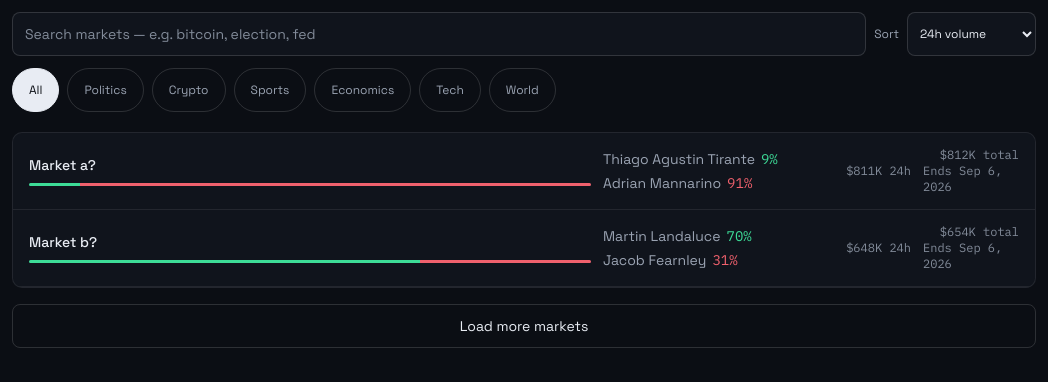
Load more (UX-1) › does not re-render a market that arrives on two pages
The width and height of the screenshot is (1048, 382).
Check: the heading "Market a?" is shown, box [29,156,96,174]
Step 1. Click the button "Load more markets" → {"x": 524, "y": 326}, box [12,304,1036,348]
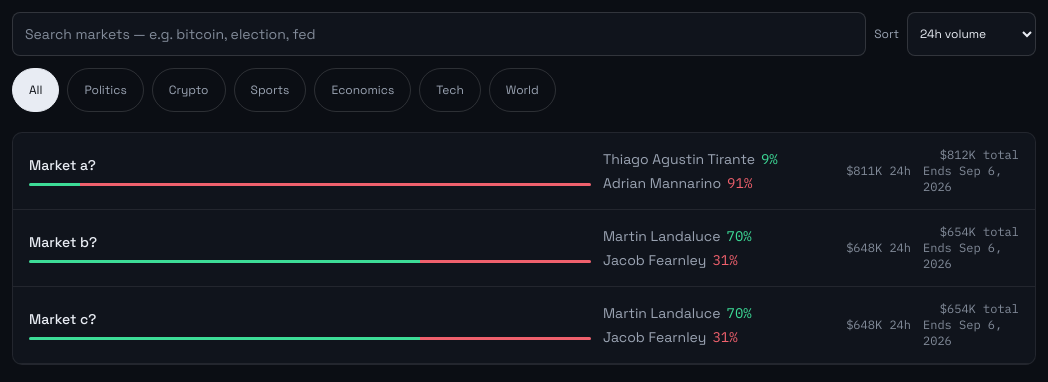
Check: the heading "Market c?" is shown, box [29,310,96,328]
Check: the number of headings "Market b?" is 1, box [29,233,97,251]
